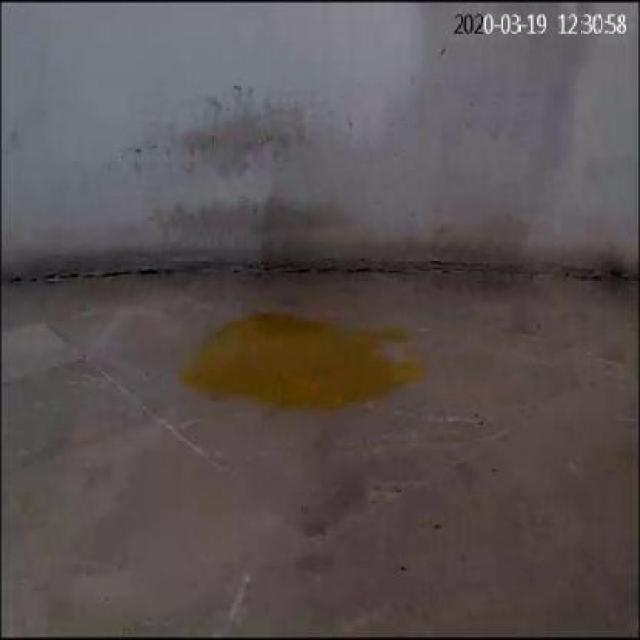spill: (178, 308, 424, 412)
